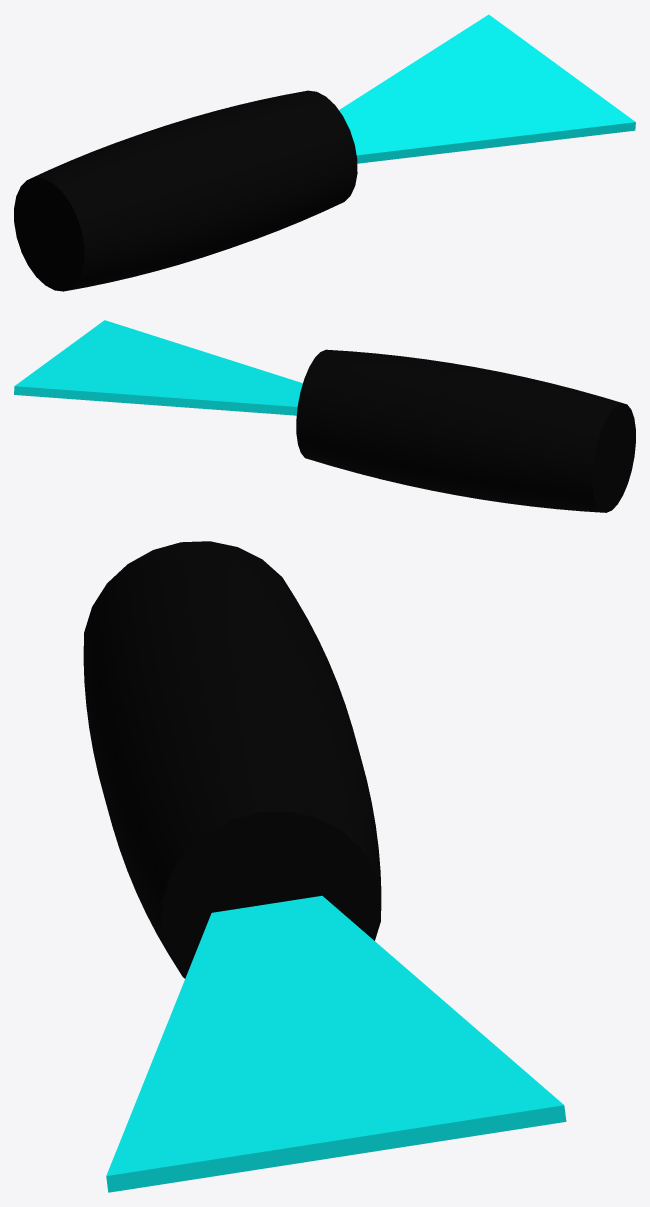
Rendered from trowel_02_origin_gt_3.dae.
The picture shows the model from 3 angles, top to bottom: view 1: azimuth 30°, elevation 25°; view 2: azimuth 150°, elevation 25°; view 3: azimuth 270°, elevation 25°; orthographic projection. The views are drawn at different scales.
Visible parts, largest first — view 1: group_0, group_1; view 2: group_0, group_1; view 3: group_0, group_1.
Part boxes in pixels (bbox=[...]): group_0: bbox=[14, 90, 357, 291]; group_1: bbox=[339, 14, 635, 163]; group_0: bbox=[296, 349, 635, 512]; group_1: bbox=[14, 320, 302, 415]; group_0: bbox=[83, 541, 381, 978]; group_1: bbox=[106, 896, 566, 1192].
Bounding box in the file's own units: 7.89 × 3.07 × 1.64.
